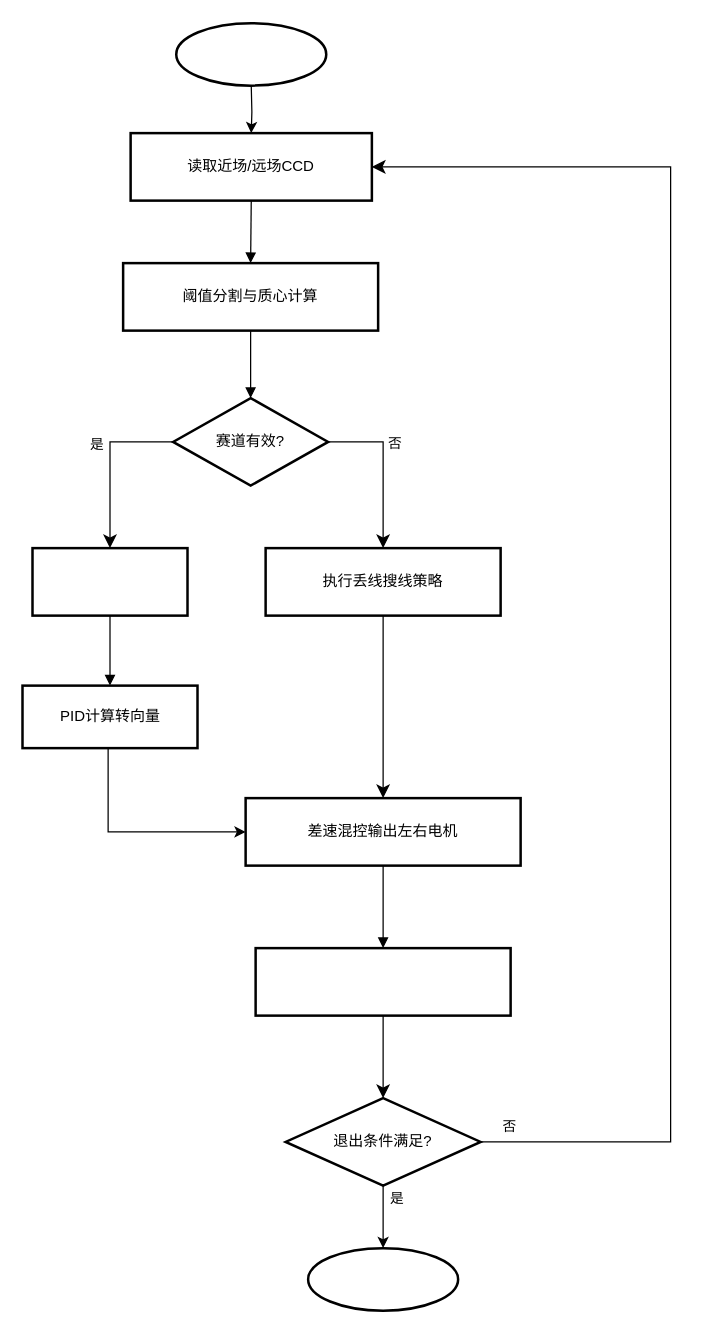
Image size: 705x1333. Some labels were removed from this diagram. The centre of each missing label's shape, as x and y in pixels:
"刷新显示与内存回收" goes at point (382, 981).
"开始" goes at point (250, 53).
"结束" goes at point (382, 1278).
"误差融合" goes at point (109, 581).
